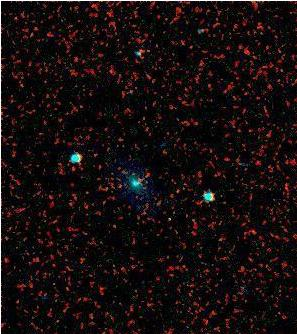star: (158, 204, 188, 234)
